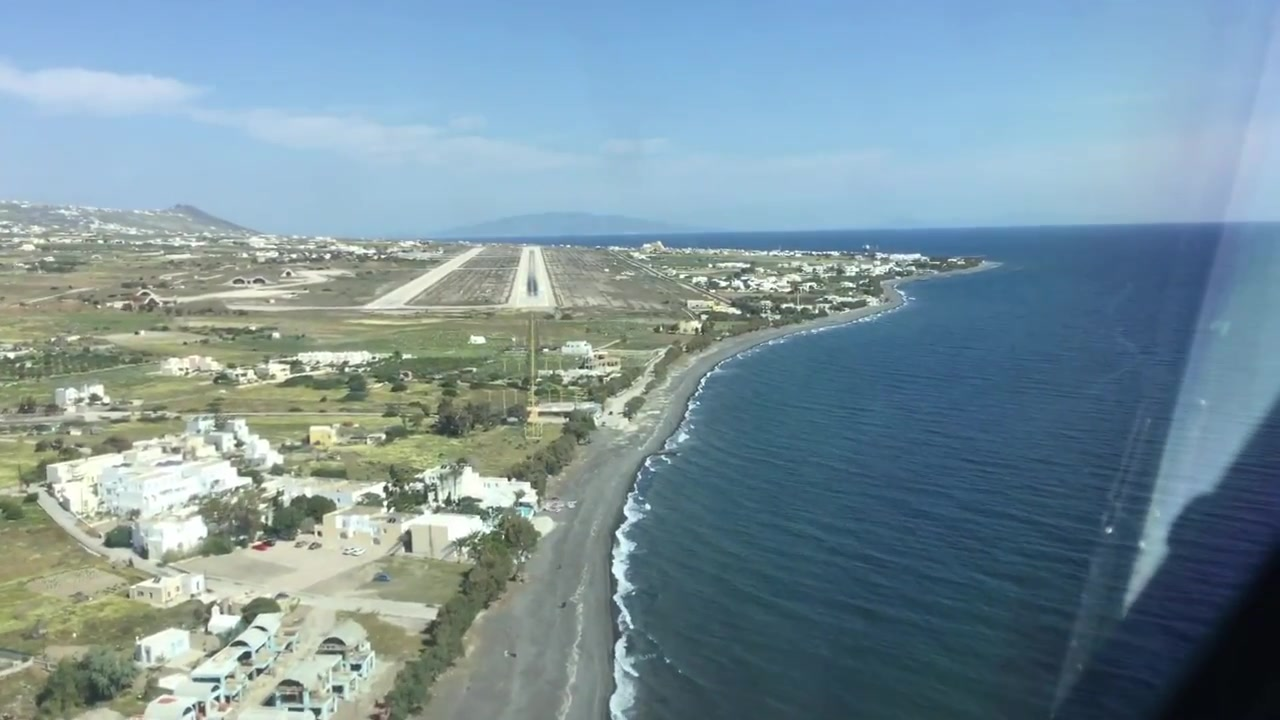runway: (363, 249, 486, 308), (508, 245, 557, 308)
